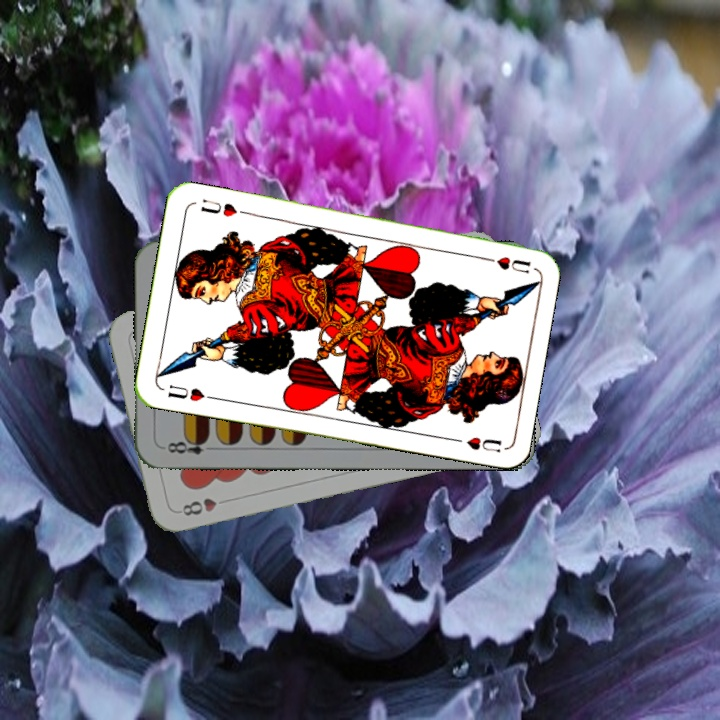E8: (159, 434, 218, 457)
H8: (178, 494, 232, 519)
HU: (476, 252, 534, 275), (163, 381, 218, 404)
